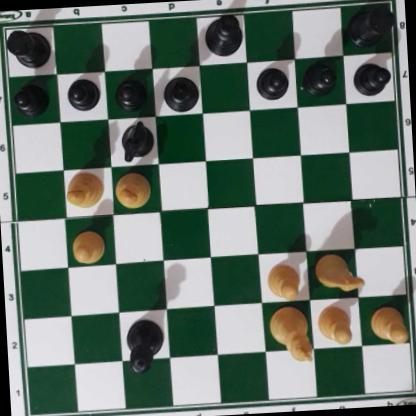black-bishop: (160, 74, 201, 114)
black-king: (201, 12, 244, 58)
black-knight: (117, 118, 154, 164)
black-pawn: (352, 59, 390, 97), (254, 64, 289, 100), (65, 76, 99, 112), (113, 75, 147, 111), (13, 81, 48, 115), (303, 60, 337, 94)
black-queen: (123, 317, 166, 375)
black-rook: (2, 25, 52, 69), (347, 3, 396, 47)
white-bishop: (65, 171, 105, 209), (114, 171, 152, 209)
white-king: (268, 303, 315, 367)
white-knight: (316, 251, 366, 294)
white-pawn: (369, 304, 408, 345), (317, 305, 354, 347), (265, 260, 303, 300), (70, 229, 106, 265)
